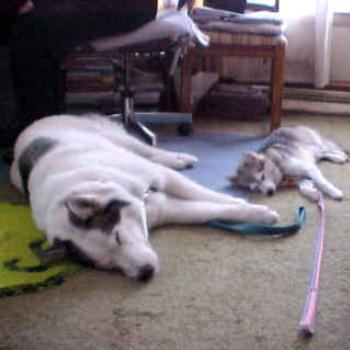dog: (8, 110, 278, 284), (222, 119, 348, 200)
